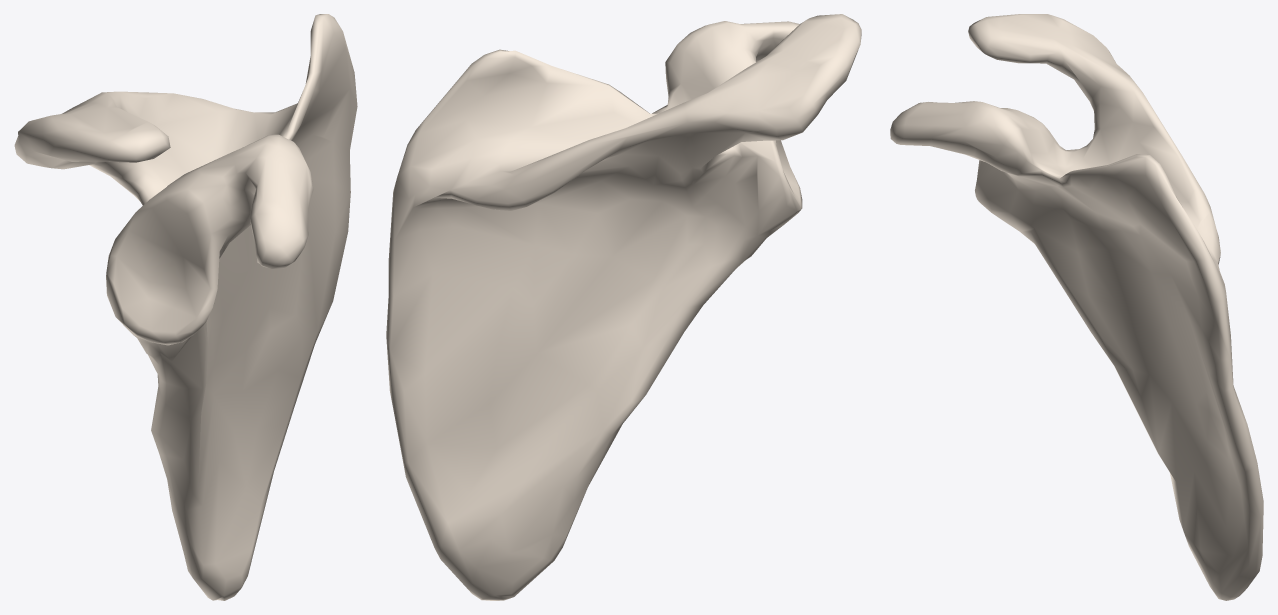
The model's file is right_scapula.glb.
3 renders of one model, left to right at view 1: azimuth 30°, elevation 25°; view 2: azimuth 150°, elevation 25°; view 3: azimuth 270°, elevation 25°, orthographic. The views are drawn at different scales.
Parts seen in each view (by area): view 1: Scapula.r.; view 2: Scapula.r.; view 3: Scapula.r..
Part boxes in pixels (x1,y1,x2,y2): Scapula.r.: (14,14,357,600); Scapula.r.: (386,14,861,600); Scapula.r.: (890,14,1263,600).
Size of the model in its own units: 0.1132 by 0.1634 by 0.1141.
